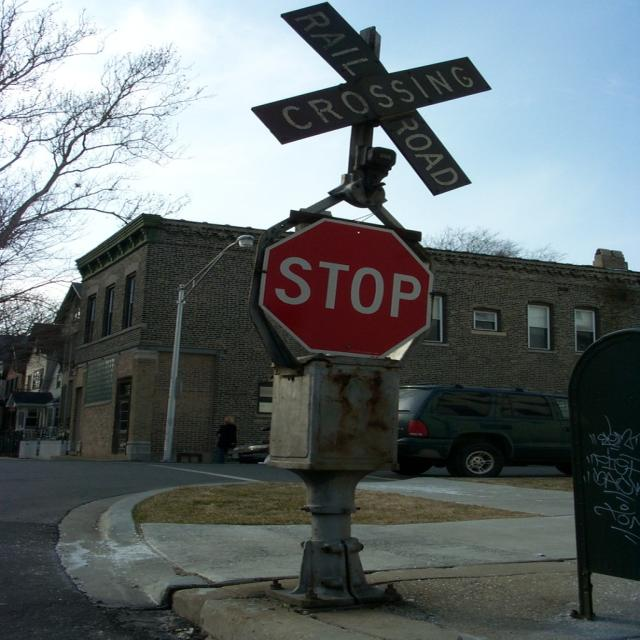Stop-sign: (252, 221, 442, 352)
